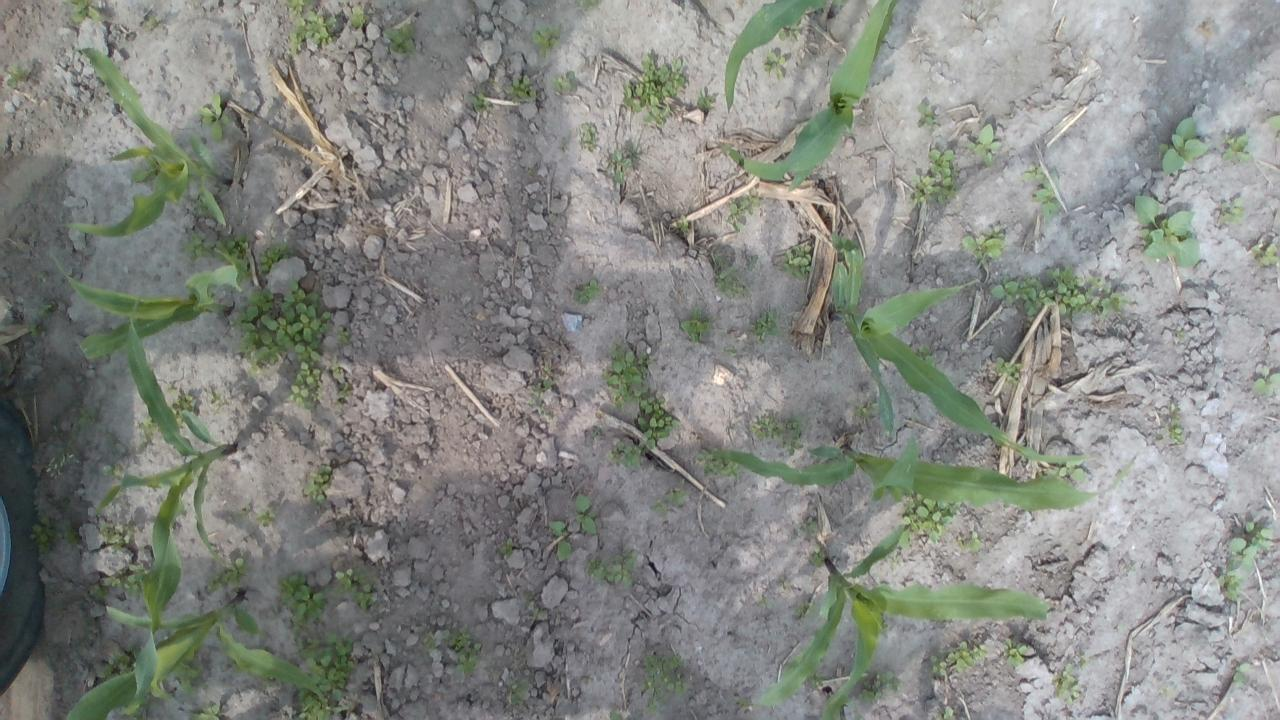Maize: (728, 521, 1048, 720), (823, 229, 1088, 468), (121, 298, 233, 720), (60, 592, 332, 720), (56, 45, 235, 238), (722, 0, 894, 193), (712, 441, 1138, 512), (50, 252, 241, 356), (722, 0, 845, 118)
Weeds: (1132, 194, 1200, 266), (234, 285, 280, 380), (279, 279, 331, 360), (296, 632, 354, 700), (622, 53, 685, 112), (602, 339, 649, 411), (899, 490, 963, 540), (1160, 117, 1209, 180), (910, 148, 960, 209), (278, 572, 326, 632), (638, 652, 688, 704), (1044, 263, 1088, 316), (1228, 520, 1272, 573), (637, 396, 679, 450), (1084, 276, 1132, 320), (586, 550, 640, 588), (284, 361, 322, 412), (962, 224, 1008, 261), (332, 568, 373, 608), (292, 12, 338, 47), (172, 649, 204, 698), (1032, 170, 1063, 220), (859, 670, 904, 704), (1050, 662, 1085, 705), (1019, 277, 1055, 317), (966, 124, 999, 166), (200, 93, 228, 142), (298, 692, 347, 720), (728, 186, 759, 229), (696, 445, 739, 476), (604, 439, 647, 470), (1220, 130, 1256, 166), (208, 558, 247, 591), (946, 641, 986, 673), (96, 519, 132, 553), (302, 463, 332, 503), (384, 21, 419, 55), (780, 243, 811, 280), (258, 243, 295, 274), (681, 308, 713, 343), (505, 74, 541, 105), (606, 147, 634, 186), (747, 309, 781, 341), (30, 516, 56, 557), (214, 234, 248, 264), (64, 0, 108, 23), (574, 492, 598, 534), (170, 390, 198, 426), (780, 413, 805, 453), (1250, 364, 1280, 397), (130, 152, 163, 182), (1049, 457, 1087, 483), (714, 267, 744, 298), (532, 25, 563, 55), (182, 232, 214, 260), (752, 412, 782, 441), (454, 644, 481, 676), (124, 562, 148, 598), (1003, 636, 1029, 668), (1218, 568, 1244, 600), (468, 90, 498, 117), (762, 52, 788, 82), (572, 278, 600, 305), (994, 357, 1022, 384), (992, 276, 1018, 305), (1218, 197, 1244, 225), (1167, 402, 1185, 442), (1249, 243, 1280, 266), (107, 648, 134, 674), (441, 626, 469, 651), (46, 450, 70, 479), (791, 600, 824, 620), (642, 106, 672, 127), (552, 70, 580, 92), (506, 677, 528, 704), (62, 519, 82, 548), (953, 532, 982, 552), (6, 62, 28, 88), (138, 414, 158, 442), (532, 367, 554, 392), (929, 654, 950, 680), (282, 0, 312, 18), (915, 102, 937, 126), (776, 20, 800, 42), (580, 121, 596, 153), (916, 344, 938, 367), (347, 5, 371, 26), (130, 698, 152, 720), (1232, 661, 1252, 685), (694, 88, 714, 110), (667, 486, 687, 508), (556, 540, 574, 564), (1020, 162, 1044, 179), (806, 670, 826, 690), (96, 664, 118, 682), (809, 545, 826, 568), (76, 408, 97, 426), (101, 573, 125, 588), (260, 508, 282, 524), (855, 402, 878, 417), (39, 300, 58, 318), (335, 326, 352, 346), (24, 321, 41, 341), (87, 584, 107, 601), (801, 516, 818, 536), (423, 631, 438, 653), (548, 519, 567, 536), (651, 499, 670, 516), (192, 195, 208, 215), (202, 704, 222, 720), (887, 550, 903, 570), (575, 0, 601, 12), (288, 34, 303, 54), (895, 531, 910, 551), (101, 463, 122, 477), (936, 706, 956, 720), (336, 384, 352, 401), (127, 642, 143, 658), (676, 214, 690, 232), (500, 537, 514, 555), (878, 620, 891, 638), (748, 253, 760, 272), (532, 607, 548, 621), (330, 363, 343, 379), (778, 574, 791, 590), (712, 252, 726, 266), (146, 16, 162, 28), (608, 710, 626, 720), (758, 597, 774, 608), (210, 391, 223, 404), (238, 504, 252, 516), (239, 269, 251, 283), (645, 703, 658, 715), (724, 345, 738, 356), (1079, 654, 1090, 668), (72, 427, 82, 442), (1176, 328, 1186, 342), (524, 592, 535, 604), (53, 426, 63, 438), (166, 380, 176, 392), (593, 426, 602, 436), (854, 713, 866, 720), (36, 272, 46, 278), (1156, 434, 1163, 441)
